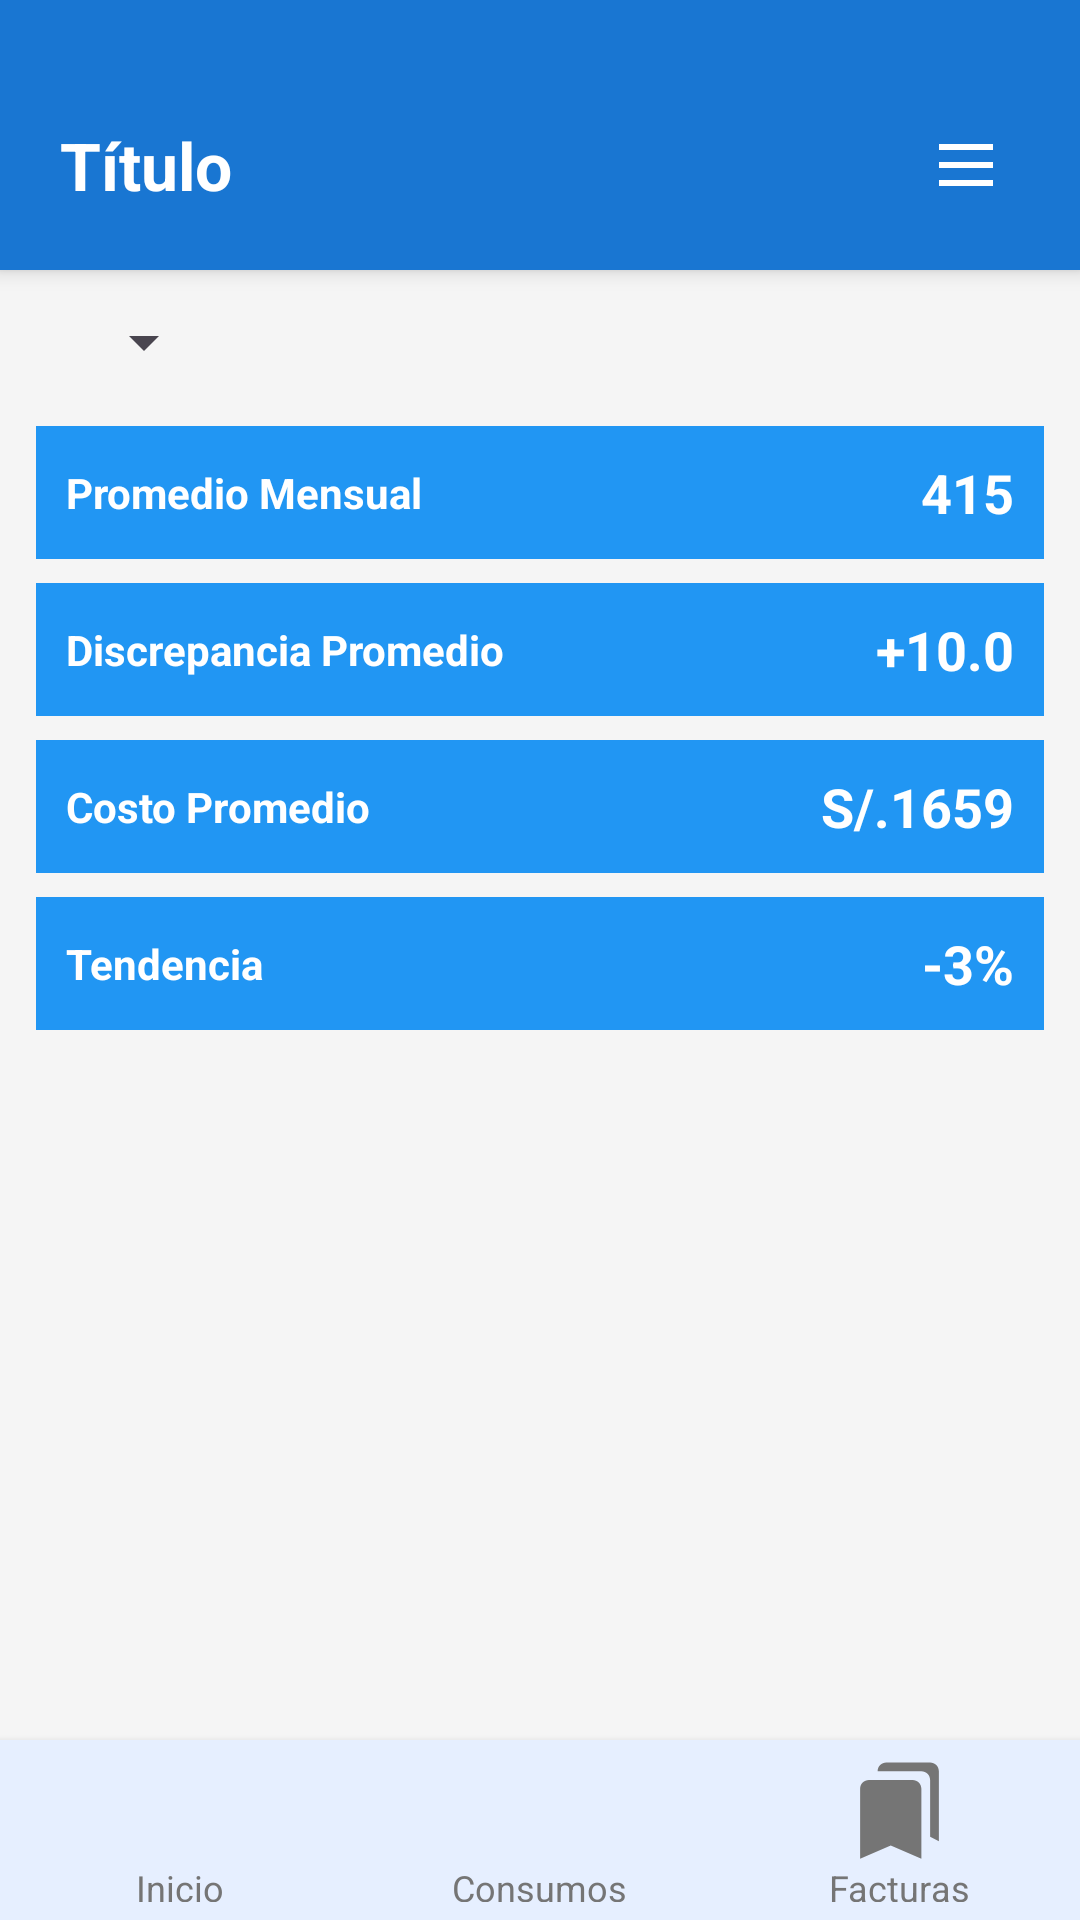

Icons on this 1080×1920 Android screen, each with the point to tap as (x=x, y=y):
dash recibos: (x=899, y=1810)
Menú principal: (x=966, y=165)
